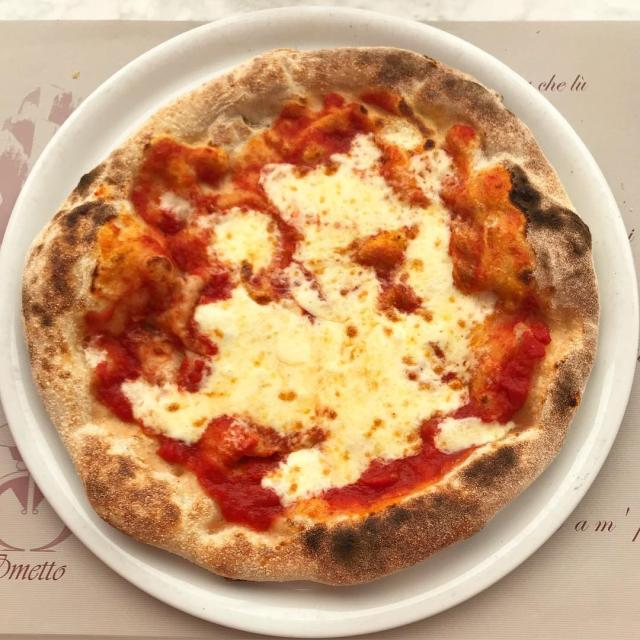pizza: (19, 42, 601, 590)
